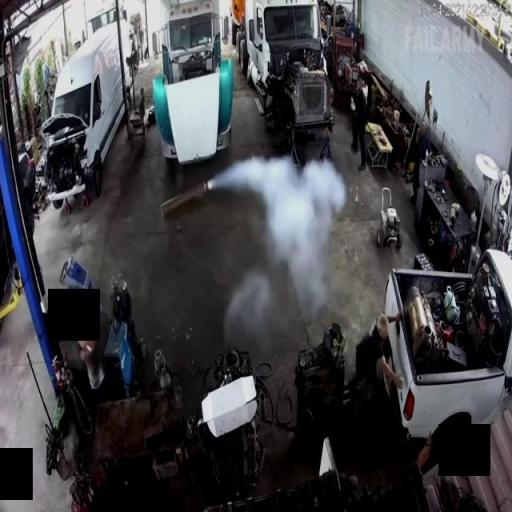Fall: (349, 304, 404, 398)
